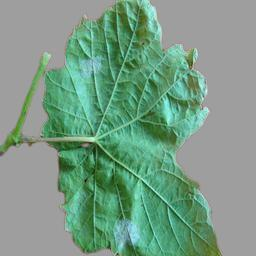Powdery-Mildew: (74, 53, 106, 99), (112, 219, 141, 248), (155, 100, 181, 127), (171, 77, 203, 98), (67, 206, 80, 231)
